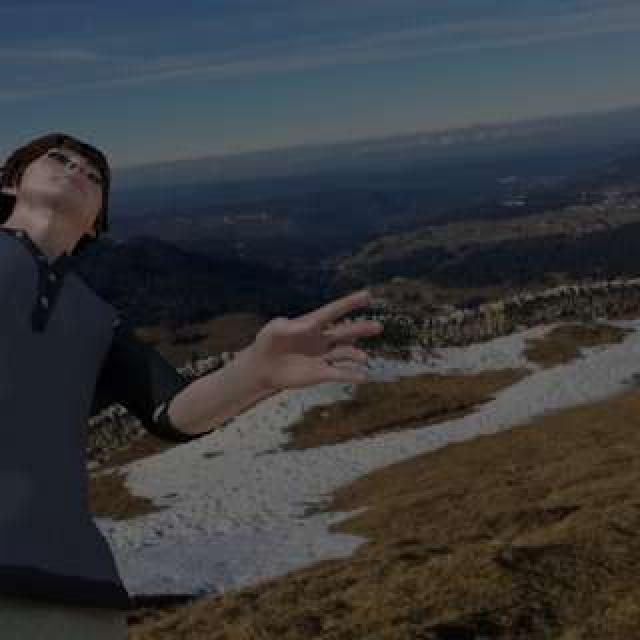not-gloved: (225, 286, 404, 408)
